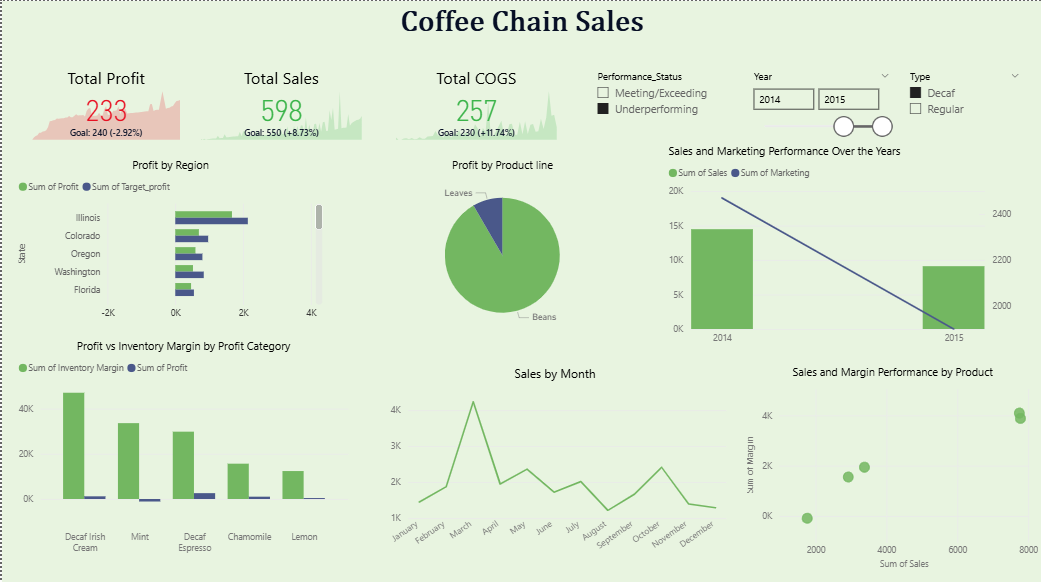

The dashboard page shown, as its layout file describes it:
{"tool":"powerbi","page":{"name":"Page 1","canvas":[1280,720],"ordinal":0},"visuals":[{"type":"textbox","box":[0,0,1280,80],"z":0},{"type":"clusteredBarChart","title":"Profit by Region","fields":{"Category":["cleaned_sales.State"],"Y":["Sum(cleaned_sales.Profit)","Sum(cleaned_sales.Target_profit)"]},"box":[16,192,384,208],"z":1000},{"type":"slicer","fields":{"Values":["cleaned_sales.Performance_Status"]},"box":[720,80,192,96],"z":2000},{"type":"scatterChart","title":"Sales and Margin Performance by Product","fields":{"X":["Sum(cleaned_sales.Sales)"],"Y":["Sum(cleaned_sales.Margin)"],"Category":["cleaned_sales.Product"]},"box":[912,448,368,256],"z":3000},{"type":"lineClusteredColumnComboChart","title":"Sales and Marketing Performance Over the Years","fields":{"Y":["Sum(cleaned_sales.Sales)"],"Y2":["Sum(cleaned_sales.Marketing)"],"Category":["cleaned_sales.Year"]},"box":[816,176,432,256],"z":4000},{"type":"slicer","fields":{"Values":["cleaned_sales.Year"]},"box":[912,80,192,96],"z":5000},{"type":"slicer","fields":{"Values":["cleaned_sales.Type"]},"box":[1104,80,160,96],"z":6000},{"type":"clusteredColumnChart","title":"Profit vs Inventory Margin by Profit Category","fields":{"Y":["Sum(cleaned_sales.Inventory Margin)","Sum(cleaned_sales.Profit)"],"Category":["cleaned_sales.Product"]},"box":[16,416,416,272],"z":7000},{"type":"pieChart","title":"Profit by Product line","fields":{"Y":["Sum(cleaned_sales.Profit)"],"Category":["cleaned_sales.Product_line"]},"box":[480,192,272,224],"z":8000},{"type":"kpi","title":"Total Profit","fields":{"Indicator":["Sum(cleaned_sales.Profit)"],"TrendLine":["cleaned_sales.Profit"],"Goal":["Sum(cleaned_sales.Target_profit)"]},"box":[32,80,192,96],"z":9000},{"type":"kpi","title":"Total Sales","fields":{"Indicator":["Sum(cleaned_sales.Sales)"],"Goal":["Sum(cleaned_sales.Target_sales )"],"TrendLine":["cleaned_sales.Sales"]},"box":[240,80,208,96],"z":10000},{"type":"kpi","title":"Total COGS","fields":{"Indicator":["Sum(cleaned_sales.Cogs)"],"Goal":["Sum(cleaned_sales.Target_cogs)"],"TrendLine":["cleaned_sales.Cogs"]},"box":[480,80,208,96],"z":11000},{"type":"lineChart","title":"Sales by Month","fields":{"Category":["cleaned_sales.Date.Variation.Date Hierarchy.Month"],"Y":["Sum(cleaned_sales.Sales)"]},"box":[464,448,432,240],"z":12000}]}

Visuals, with their boxes in screenshot pixels (x1, y1, x2, y2), scaled from the page's 1280x720 canvas onto the 1041x582 screenshot:
textbox: box=[0, 0, 1040, 65]
"Profit by Region" clusteredBarChart: box=[13, 155, 325, 323]
slicer - cleaned_sales.Performance_Status: box=[586, 65, 742, 142]
"Sales and Margin Performance by Product" scatterChart: box=[742, 362, 1040, 569]
"Sales and Marketing Performance Over the Years" lineClusteredColumnComboChart: box=[664, 142, 1015, 349]
slicer - cleaned_sales.Year: box=[742, 65, 898, 142]
slicer - cleaned_sales.Type: box=[898, 65, 1028, 142]
"Profit vs Inventory Margin by Profit Category" clusteredColumnChart: box=[13, 336, 351, 556]
"Profit by Product line" pieChart: box=[390, 155, 612, 336]
"Total Profit" kpi: box=[26, 65, 182, 142]
"Total Sales" kpi: box=[195, 65, 364, 142]
"Total COGS" kpi: box=[390, 65, 560, 142]
"Sales by Month" lineChart: box=[377, 362, 729, 556]
